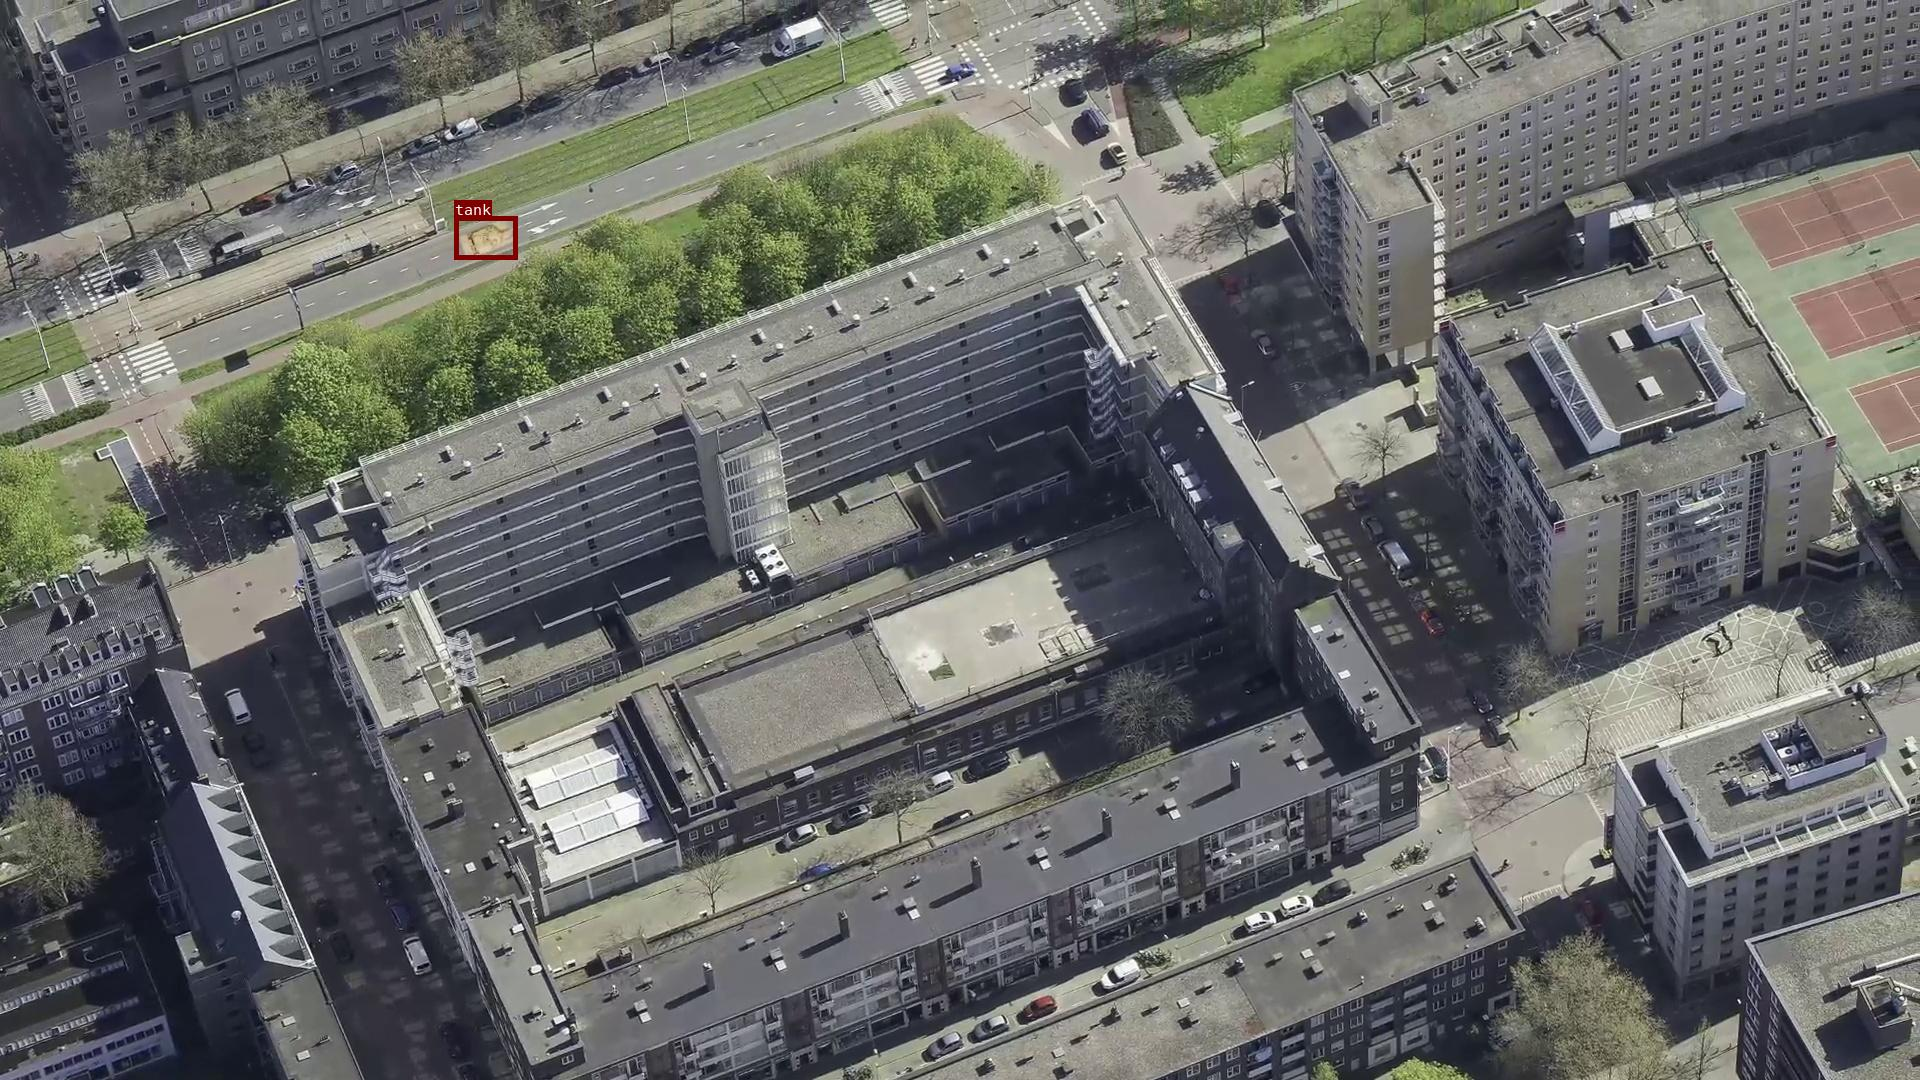tank: (454, 216, 517, 258)
